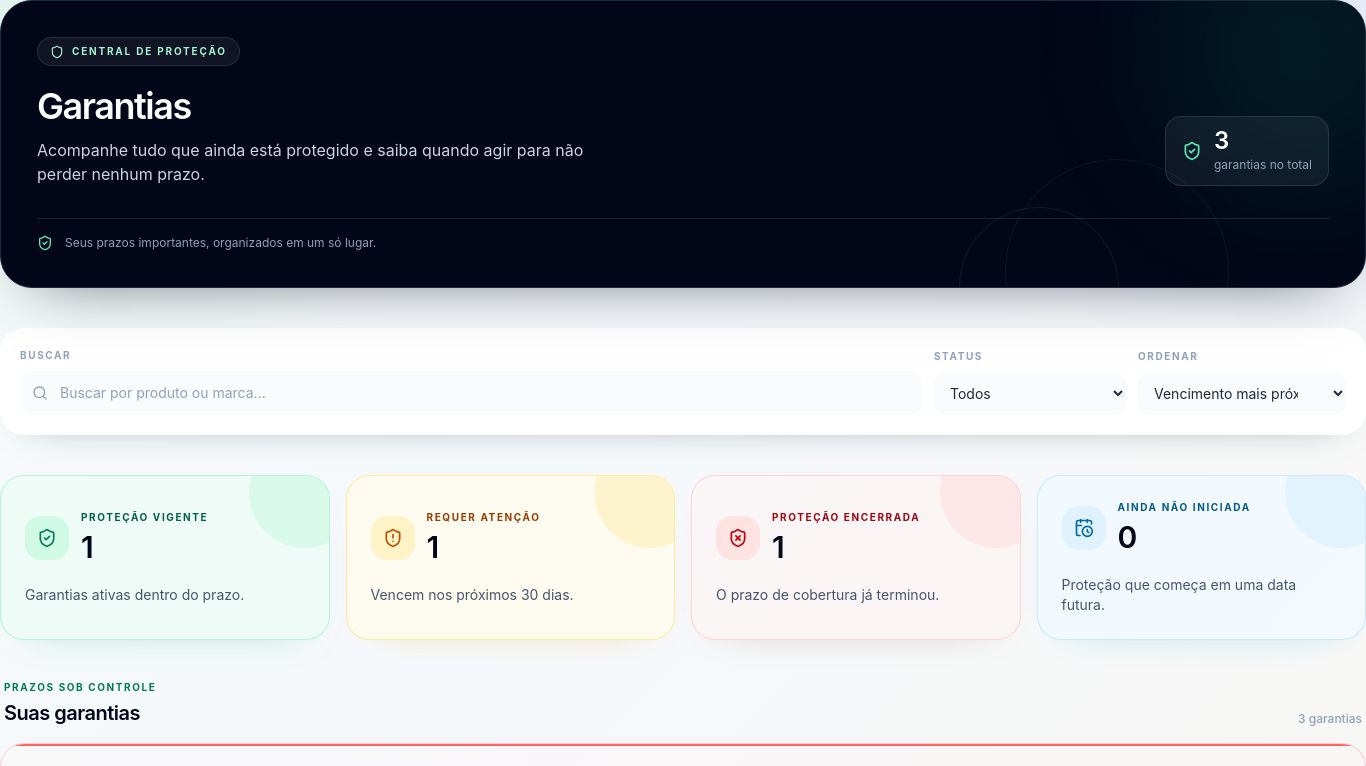
Test: Warranties — busca, filtros e ordenação › limpar filtros restaura a lista completa
This screenshot has width=1366, height=766.
Type "notebook" into the search field labelled "Buscar". click: (471, 393)
box: [20,371,922,415]
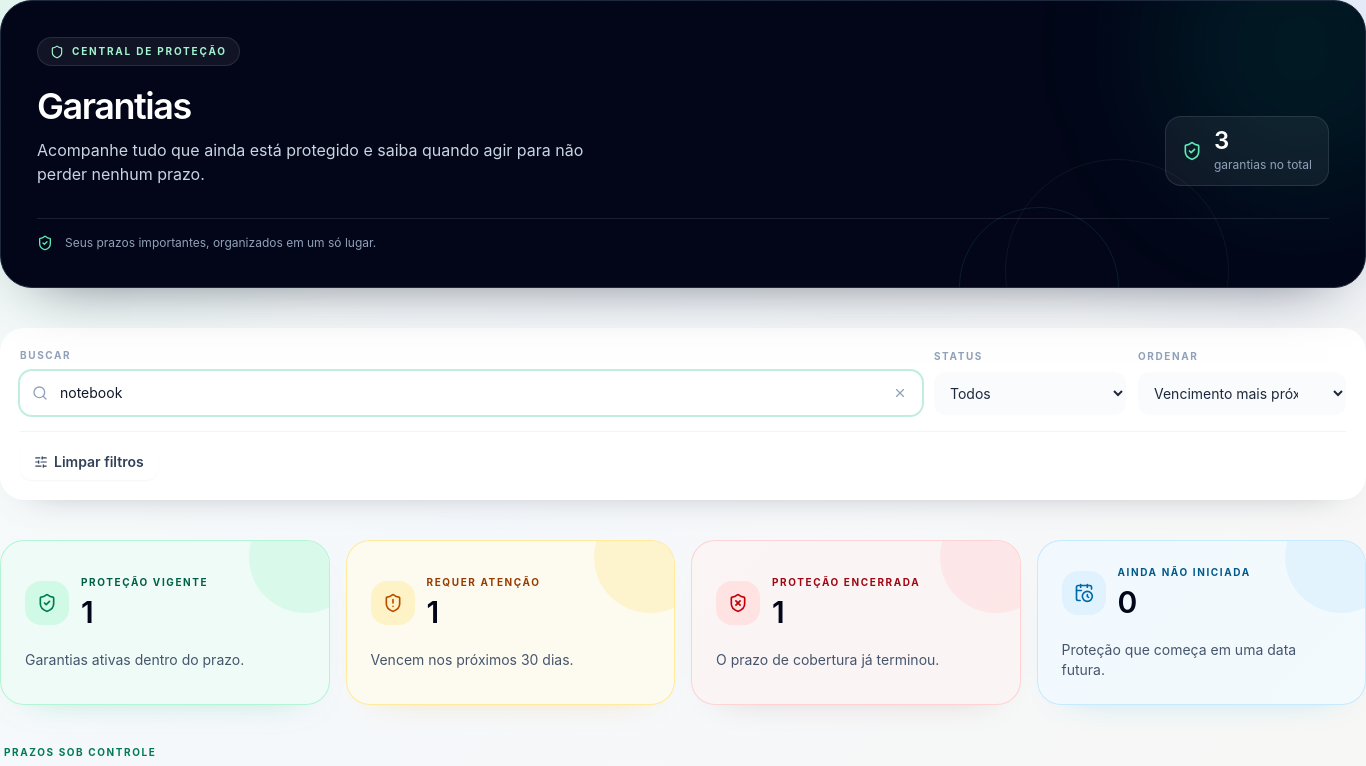
Click the button "Limpar filtros". click: (89, 462)
box: [20,444,158,480]
(page scrolled)
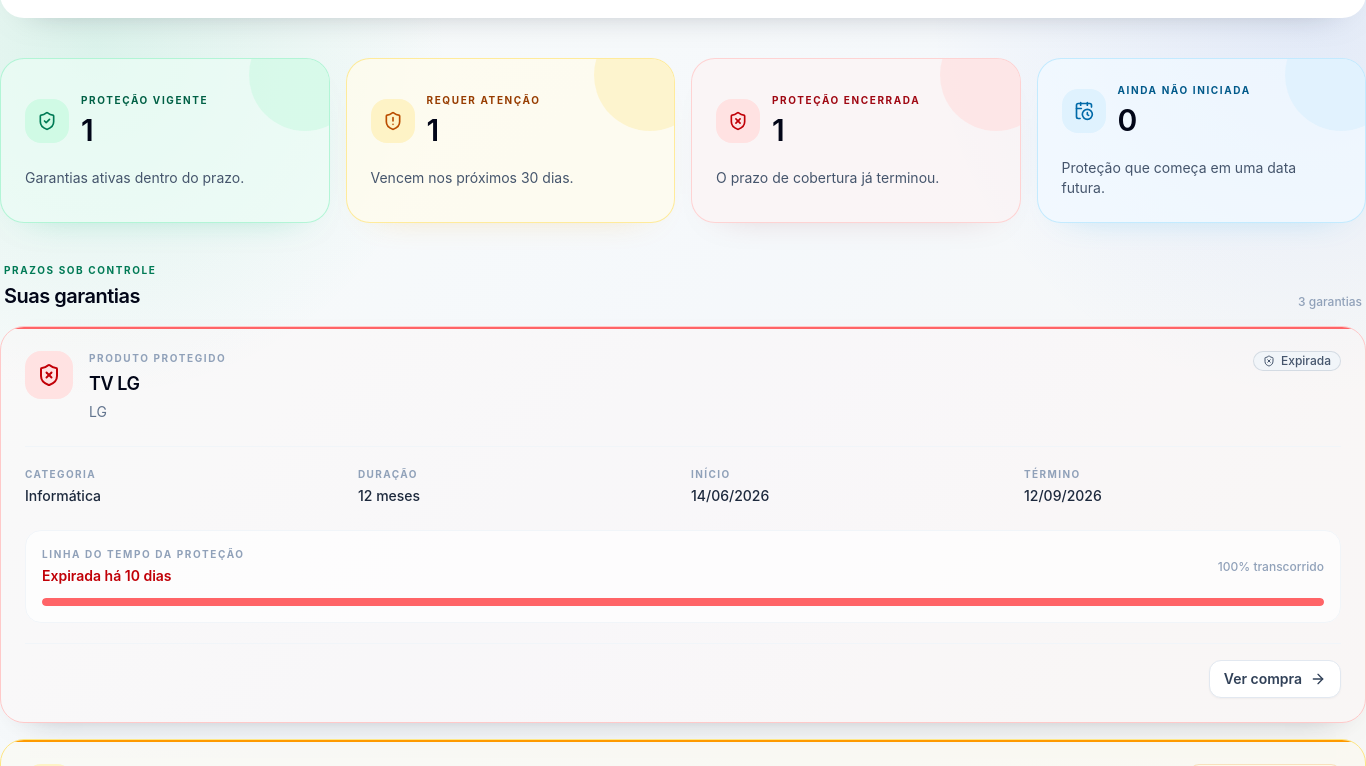
Now the heading "TV LG" is shown, box [89,373,139,394]
